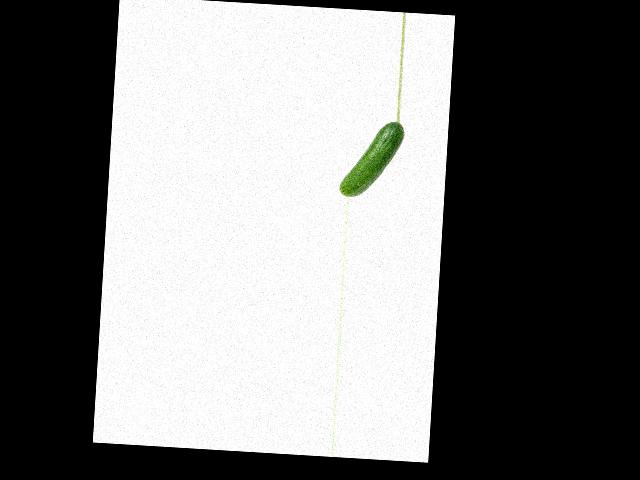cucumber: (339, 118, 405, 200)
